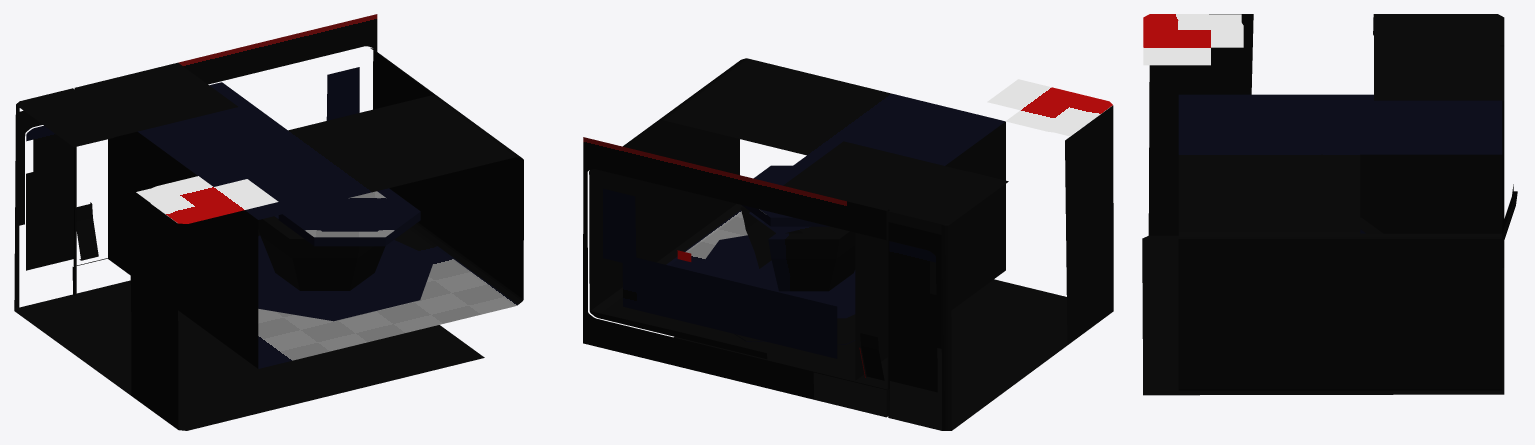
File: microwave.obj
The picture shows the model from 3 angles, left to right: view 1: azimuth 30°, elevation 25°; view 2: azimuth 150°, elevation 25°; view 3: azimuth 270°, elevation 25°; orthographic projection. The views are drawn at different scales.
Visible parts, largest first — view 1: mainbody_Cube.001, plate_Cylinder, window_Cube.002; view 2: mainbody_Cube.001, window_Cube.002, plate_Cylinder; view 3: mainbody_Cube.001.
Part boxes in pixels (x1,y1,x2,y2): mainbody_Cube.001: [14, 14, 523, 430]; plate_Cylinder: [258, 188, 434, 321]; window_Cube.002: [326, 67, 359, 120]; mainbody_Cube.001: [583, 58, 1113, 430]; window_Cube.002: [603, 188, 837, 358]; plate_Cylinder: [696, 165, 855, 344]; mainbody_Cube.001: [1142, 14, 1517, 395].
Size of the model in its own units: 0.7506 by 0.3962 by 0.613.
